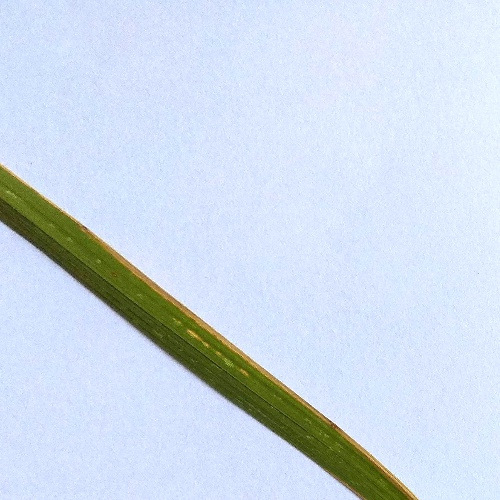Busuk Leher: (183, 301, 228, 336), (145, 273, 183, 303), (79, 216, 114, 247), (112, 245, 147, 275)
